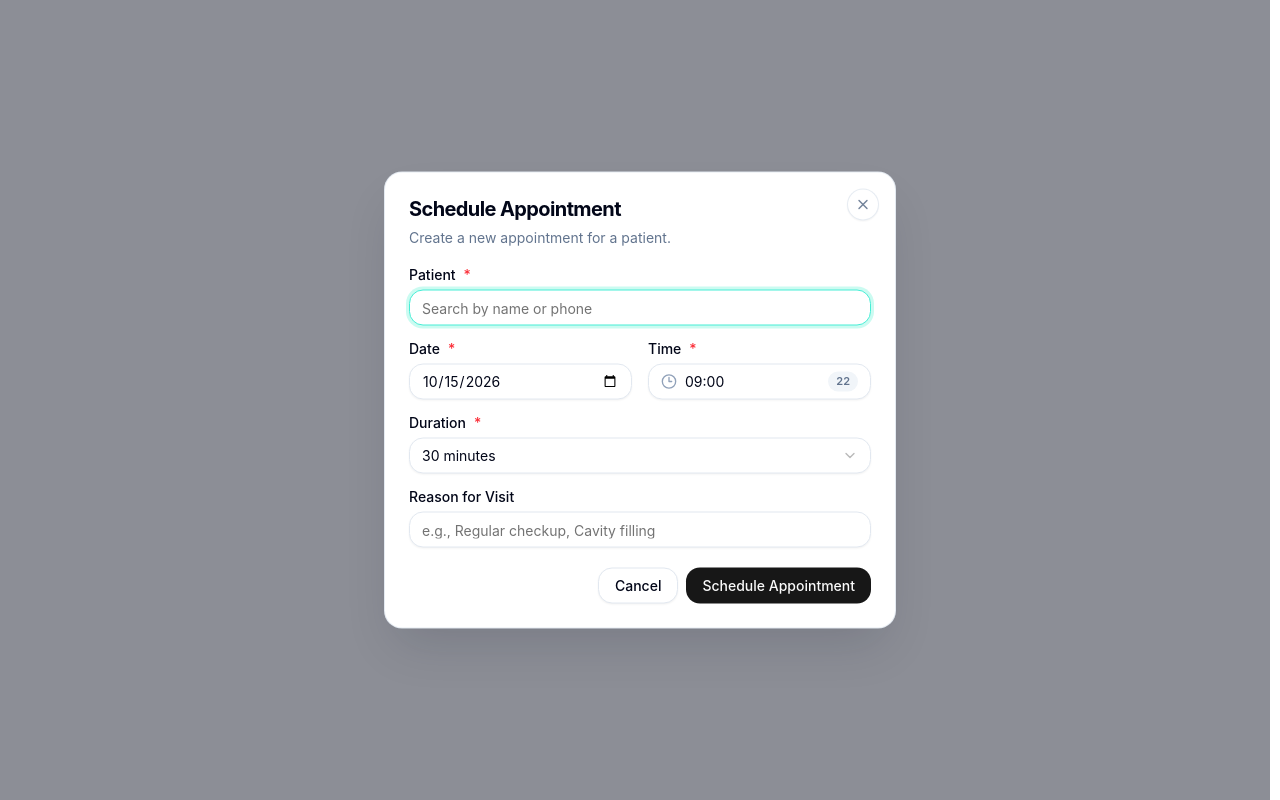
it: AddAppointmentDialog › filters patient options by phone number
In the dropdown with placeholder "Search by name or phone": (640, 308) top-left (409, 290), bottom-right (871, 326), type "2222"
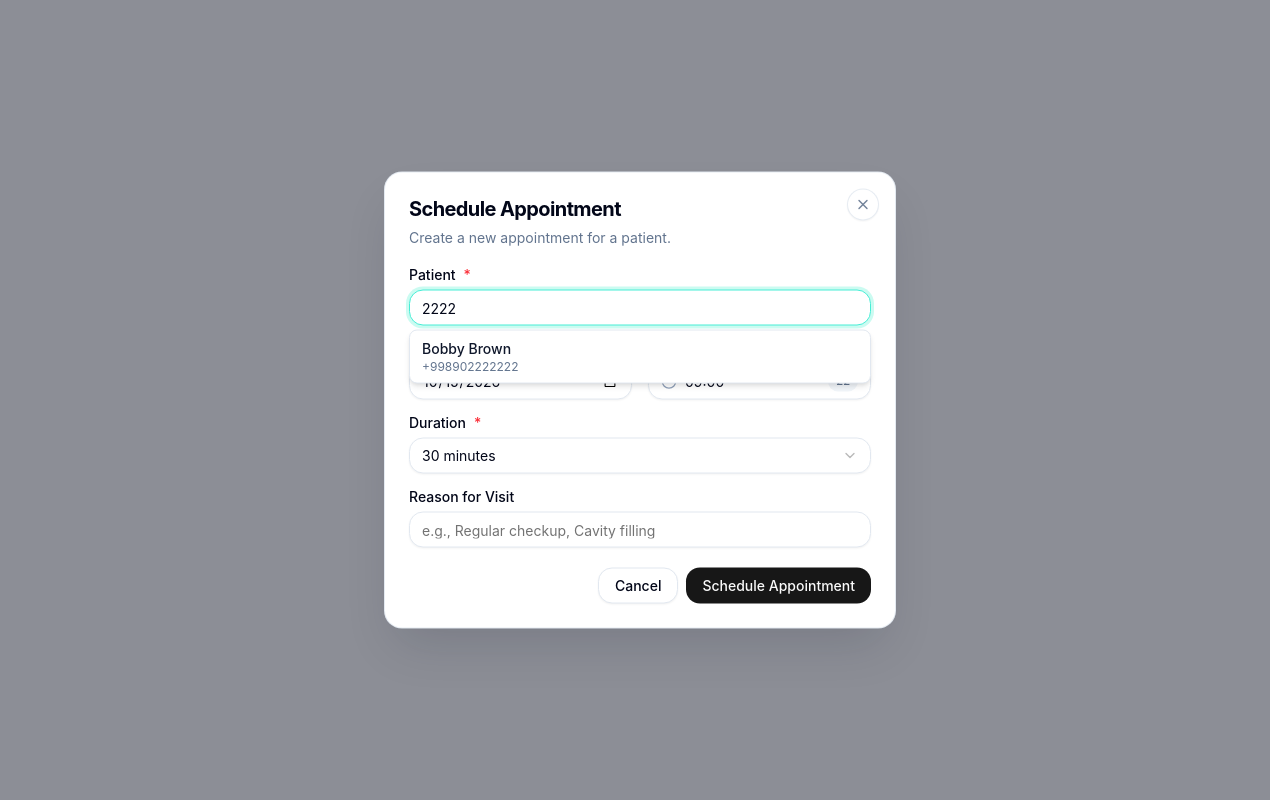
Expected: the text "Bobby Brown" is shown, top-left (422, 340), bottom-right (511, 356)
Expected: the option "Alice Adams" is gone
